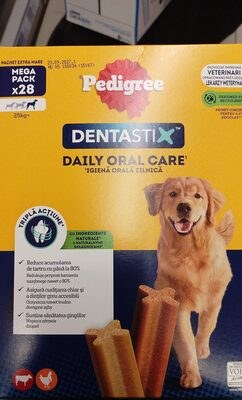dentastix x28: (12, 20, 230, 380)
